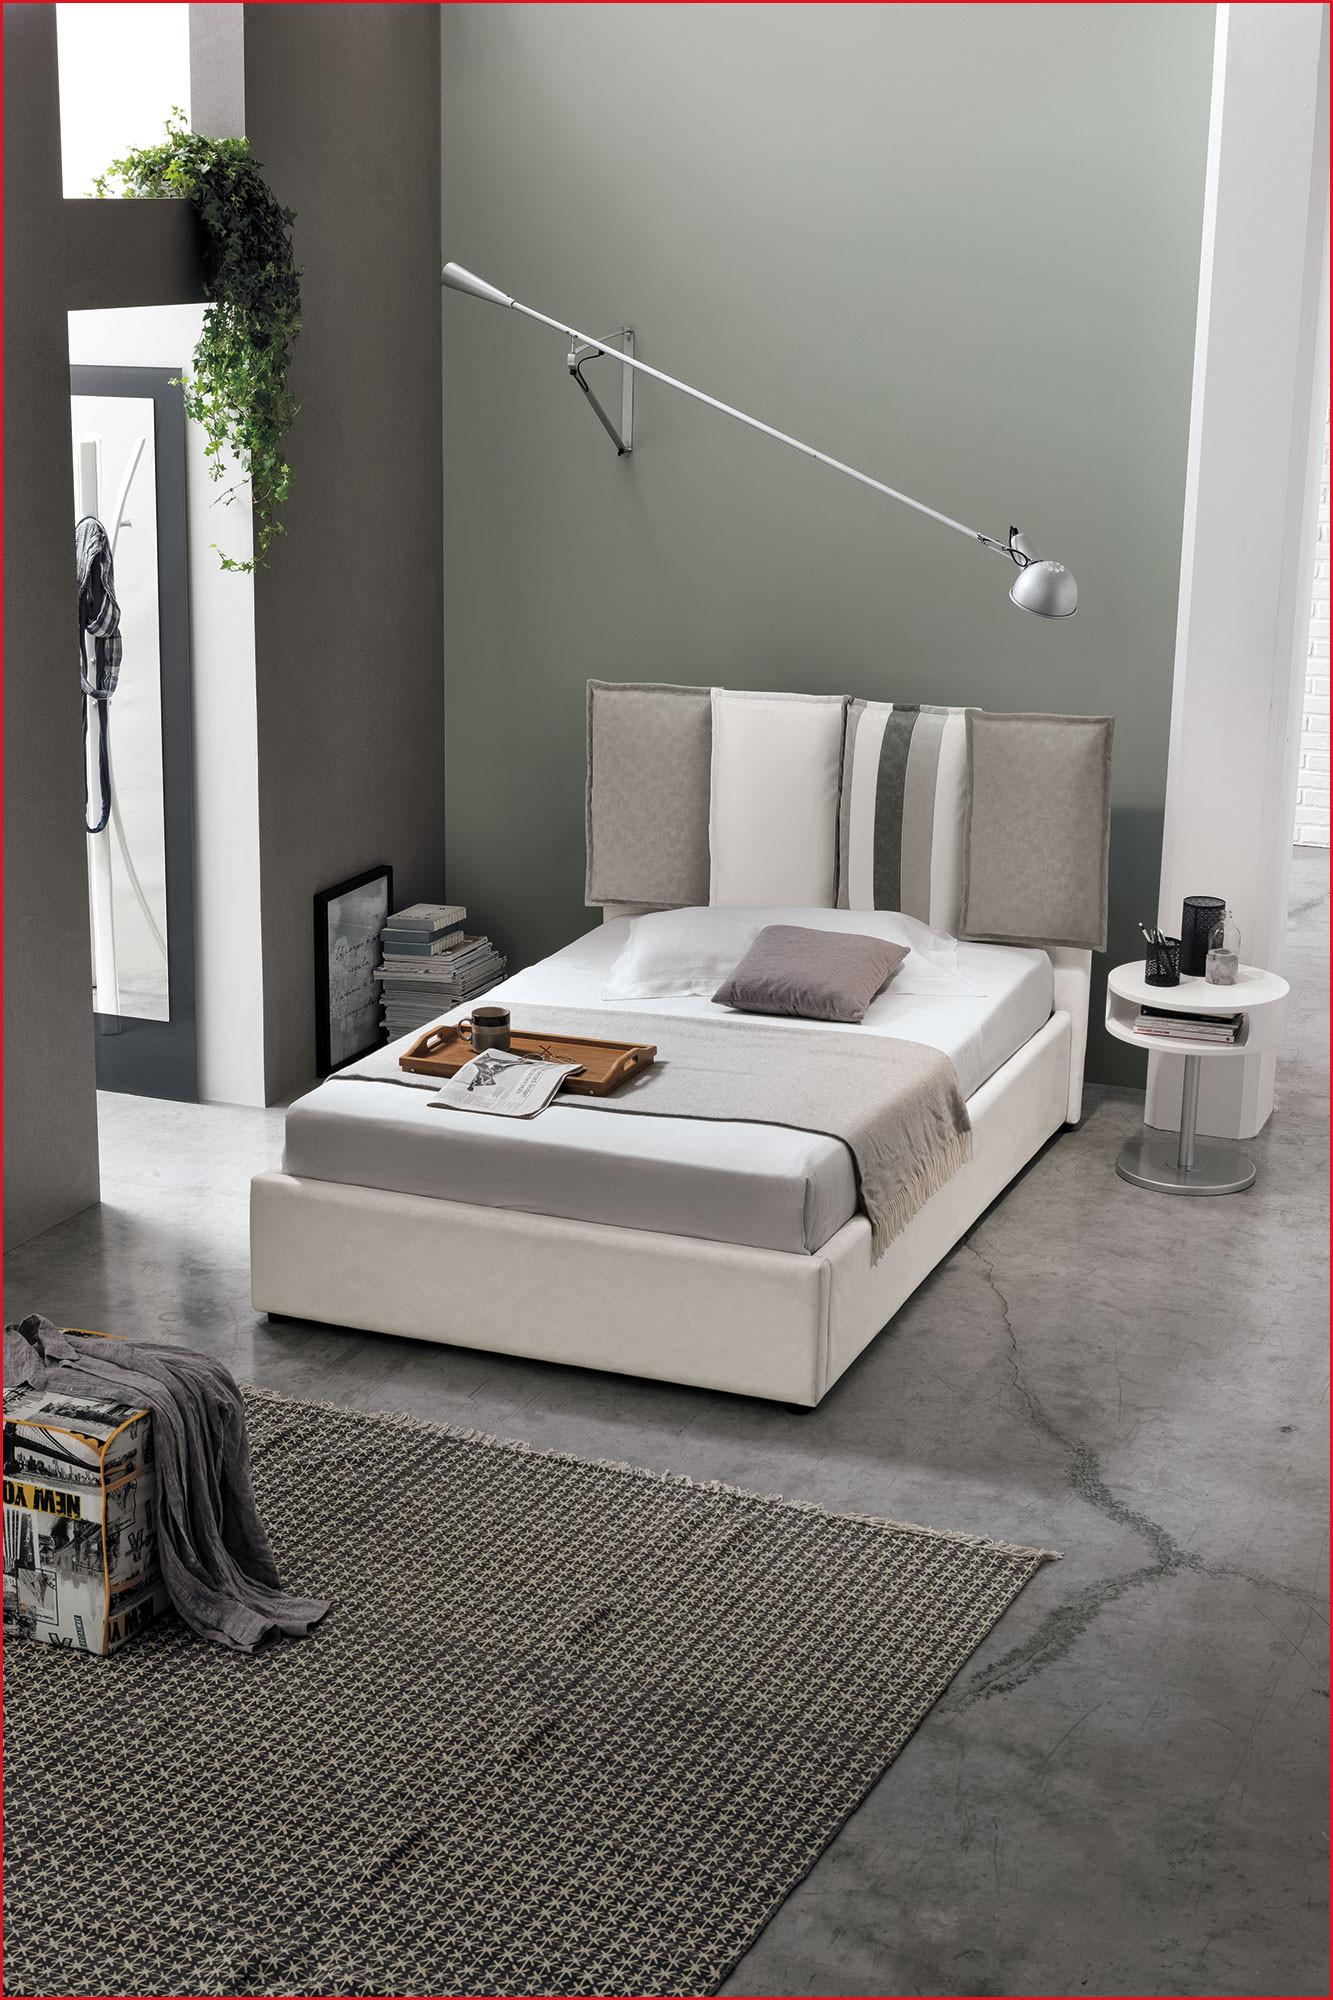bed: (370, 630, 1040, 1310)
